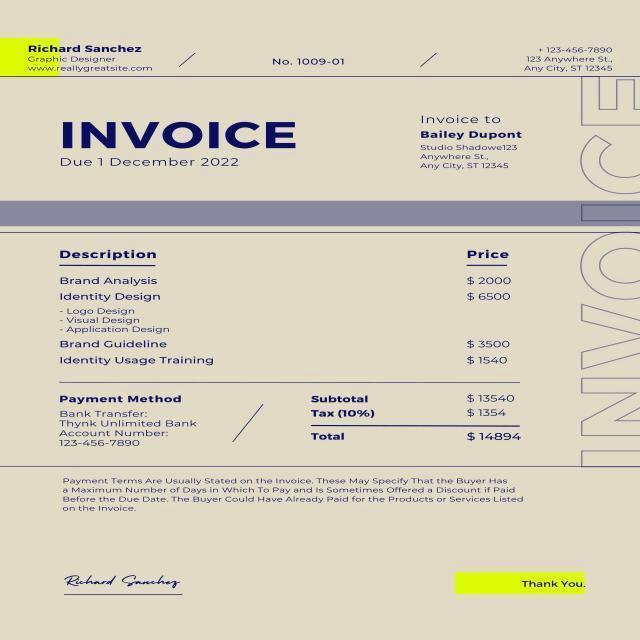paragraph: (48, 237, 538, 369), (51, 472, 527, 525), (293, 381, 537, 463), (45, 378, 202, 458), (407, 100, 530, 184), (58, 112, 304, 151), (16, 35, 172, 81), (54, 561, 195, 605), (445, 565, 599, 605), (515, 33, 627, 80), (59, 155, 251, 173), (269, 49, 352, 75)
